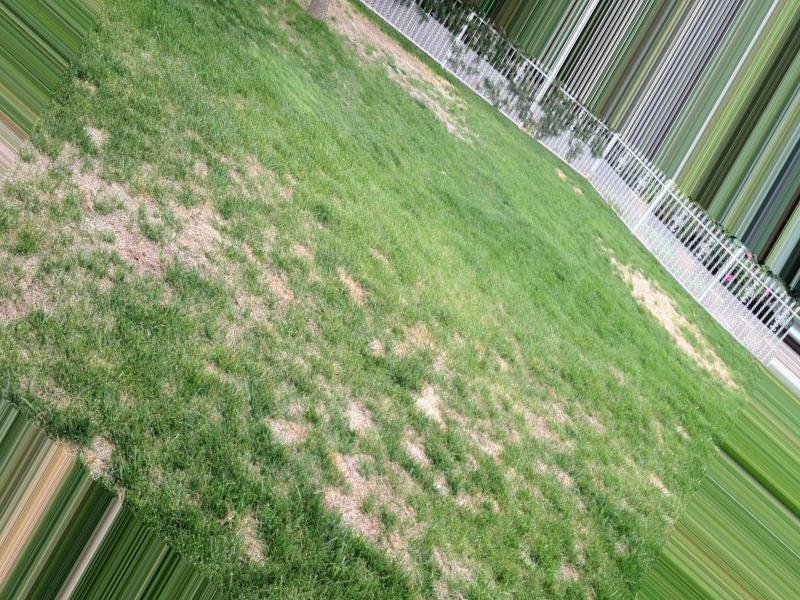patch: (55, 158, 255, 311), (280, 303, 405, 508), (439, 385, 568, 523), (328, 4, 468, 130), (619, 256, 717, 376)
